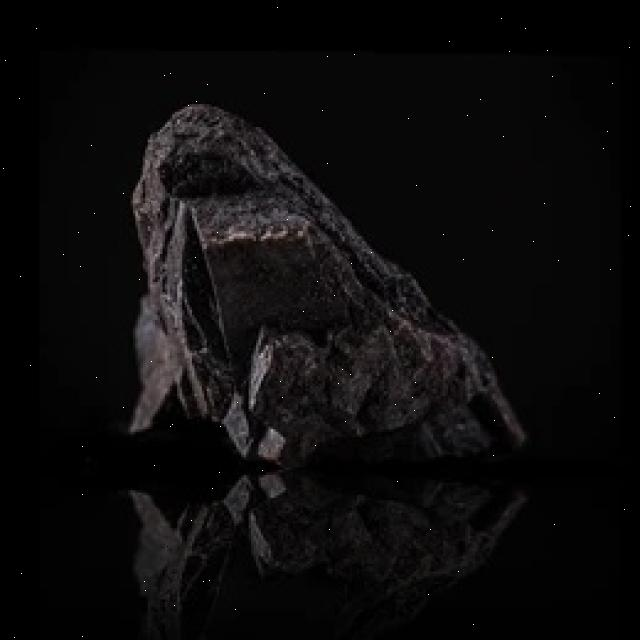Sedimentary: (91, 89, 542, 460)
